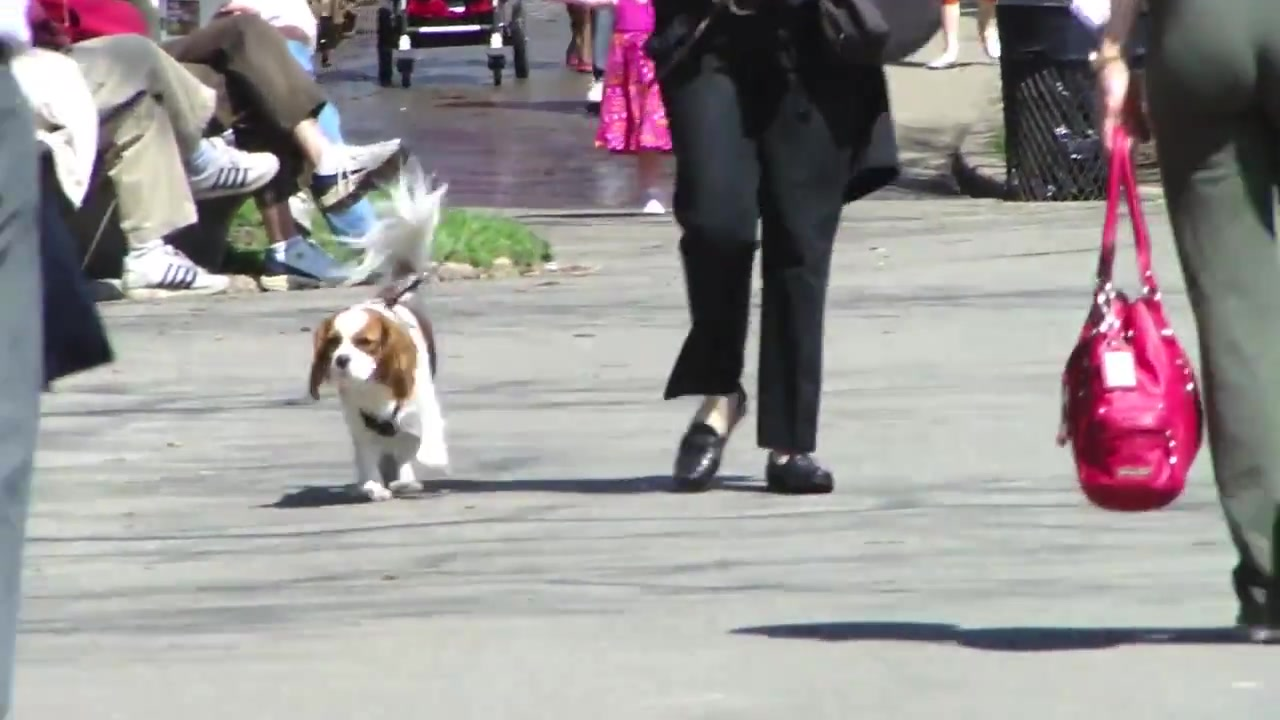dog: (309, 282, 452, 507)
